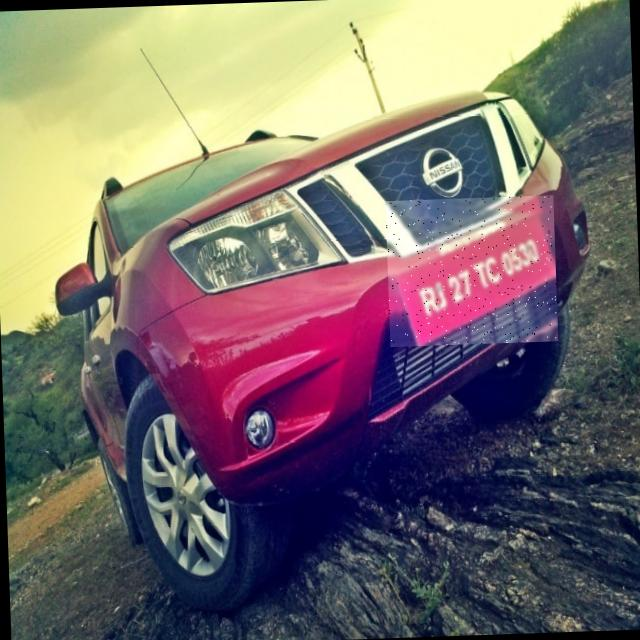Plate: (386, 196, 559, 348)
